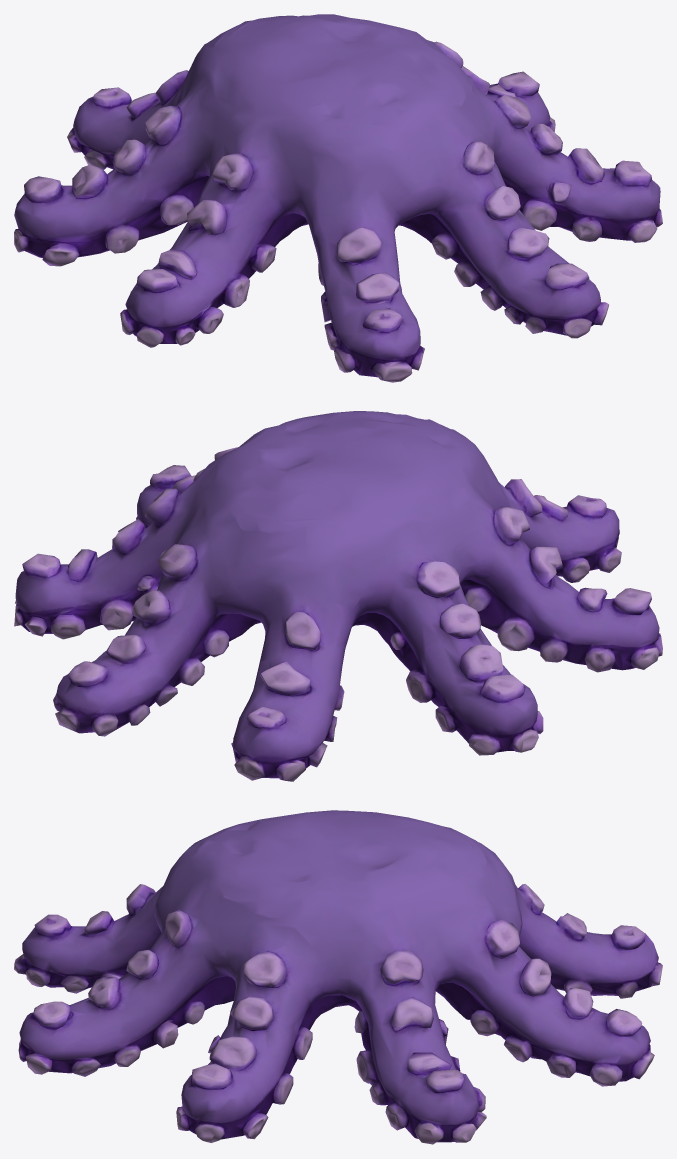
File: legs.glb
3 views of the same model, one above another, from view 1: azimuth 30°, elevation 25°; view 2: azimuth 150°, elevation 25°; view 3: azimuth 270°, elevation 25° (orthographic). The views are drawn at different scales.
Visible parts, largest first — view 1: tripo_node_83e73b6c-93bf-413a-9a85-2d14d7136c1a; view 2: tripo_node_83e73b6c-93bf-413a-9a85-2d14d7136c1a; view 3: tripo_node_83e73b6c-93bf-413a-9a85-2d14d7136c1a.
Boxes of the visible parts, <box> form: tripo_node_83e73b6c-93bf-413a-9a85-2d14d7136c1a: <box>14,14,662,382</box>; tripo_node_83e73b6c-93bf-413a-9a85-2d14d7136c1a: <box>14,411,662,781</box>; tripo_node_83e73b6c-93bf-413a-9a85-2d14d7136c1a: <box>14,810,662,1144</box>.
Size of the model in its own units: 0.9197 by 0.3136 by 1.
1 material, 1 textured.
